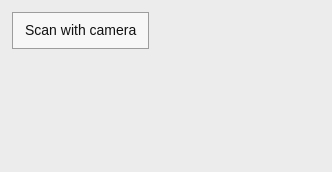
Test: UpcEanScanner › starts ZXing with UPC/EAN formats and returns a detected value
The width and height of the screenshot is (332, 172).
Click the button "Scan with camera" at coordinates (81, 30), box top-left (12, 12), bottom-right (149, 49)
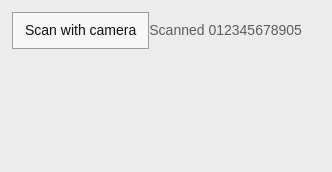
Expected: the message reads "Scanned 012345678905", top-left (149, 22), bottom-right (302, 38)
